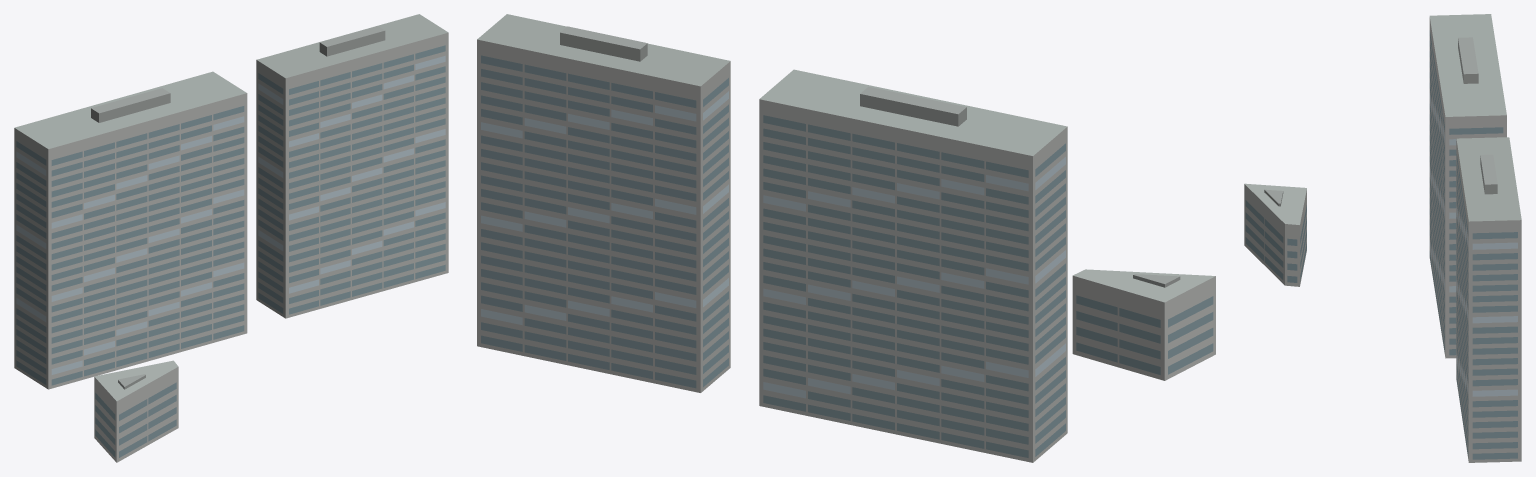
The model's file is apt-a15681103.glb.
3 views of the same model, side by side, from view 1: azimuth 30°, elevation 25°; view 2: azimuth 150°, elevation 25°; view 3: azimuth 270°, elevation 25° (orthographic). The views are drawn at different scales.
Parts seen in each view (by area): view 1: apt-a15681103; view 2: apt-a15681103; view 3: apt-a15681103.
Part boxes in pixels (x1=…): apt-a15681103: x1=14, y1=14, x2=448, y2=462; apt-a15681103: x1=477, y1=14, x2=1215, y2=462; apt-a15681103: x1=1244, y1=14, x2=1521, y2=462.
Size of the model in its own units: 115 by 62 by 62.08.
